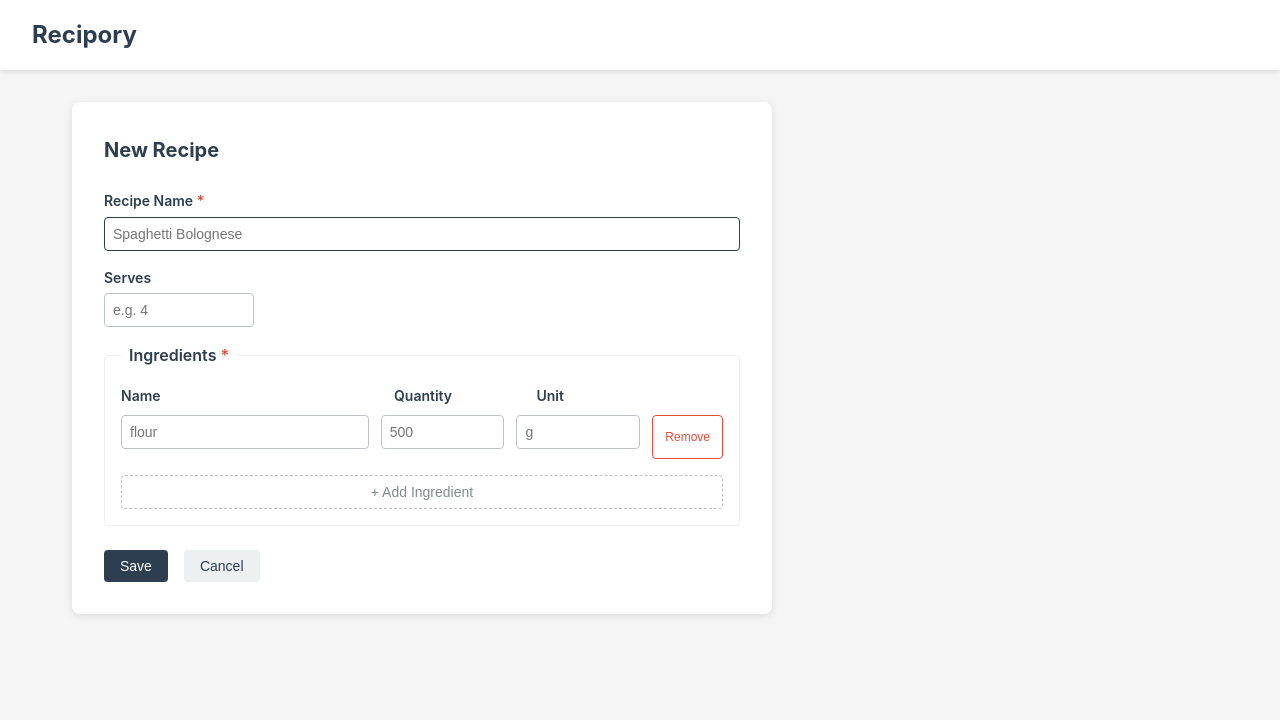
it: App › Add Recipe › adds and removes ingredient rows
Expected: the number of fields named "Name" is 1, [121,415,369,449]
Click the button "+ Add Ingredient" at (422, 492), box [121,475,723,509]
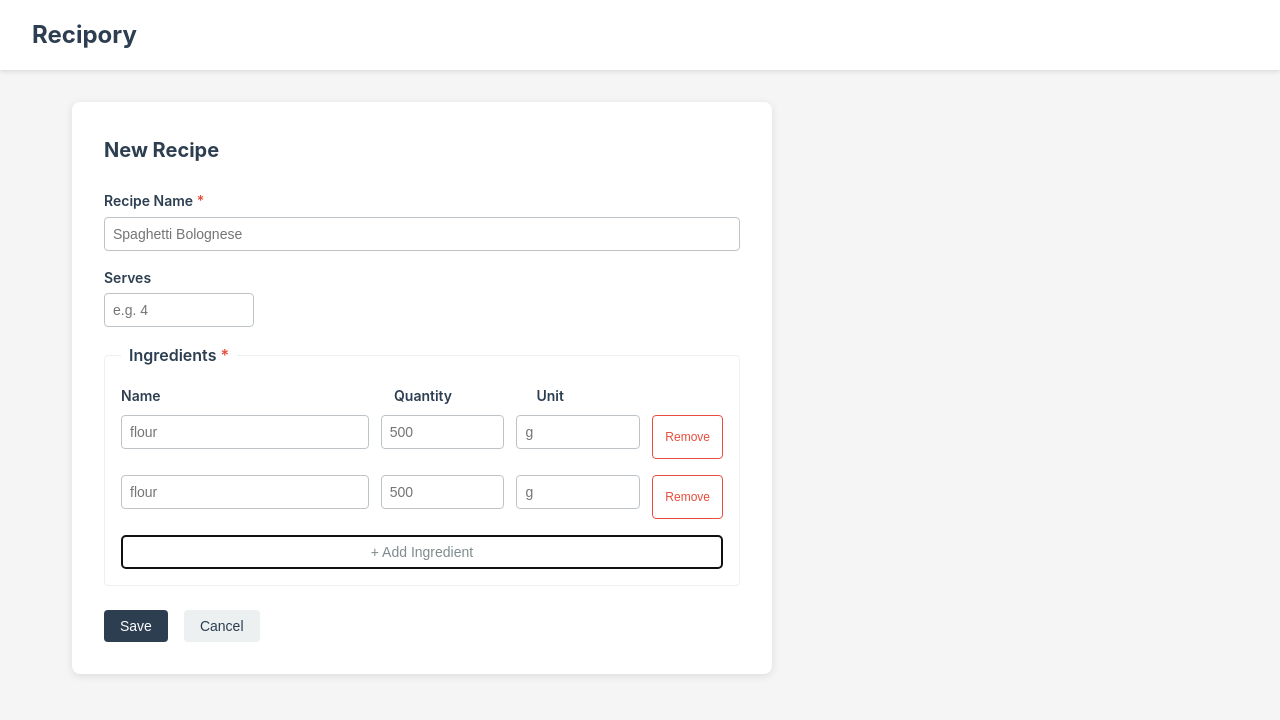
Expected: the number of fields named "Name" is 2, [121,415,369,449]; [121,475,369,509]
Click the 1st button "Remove" at (688, 437), box [652,415,723,459]
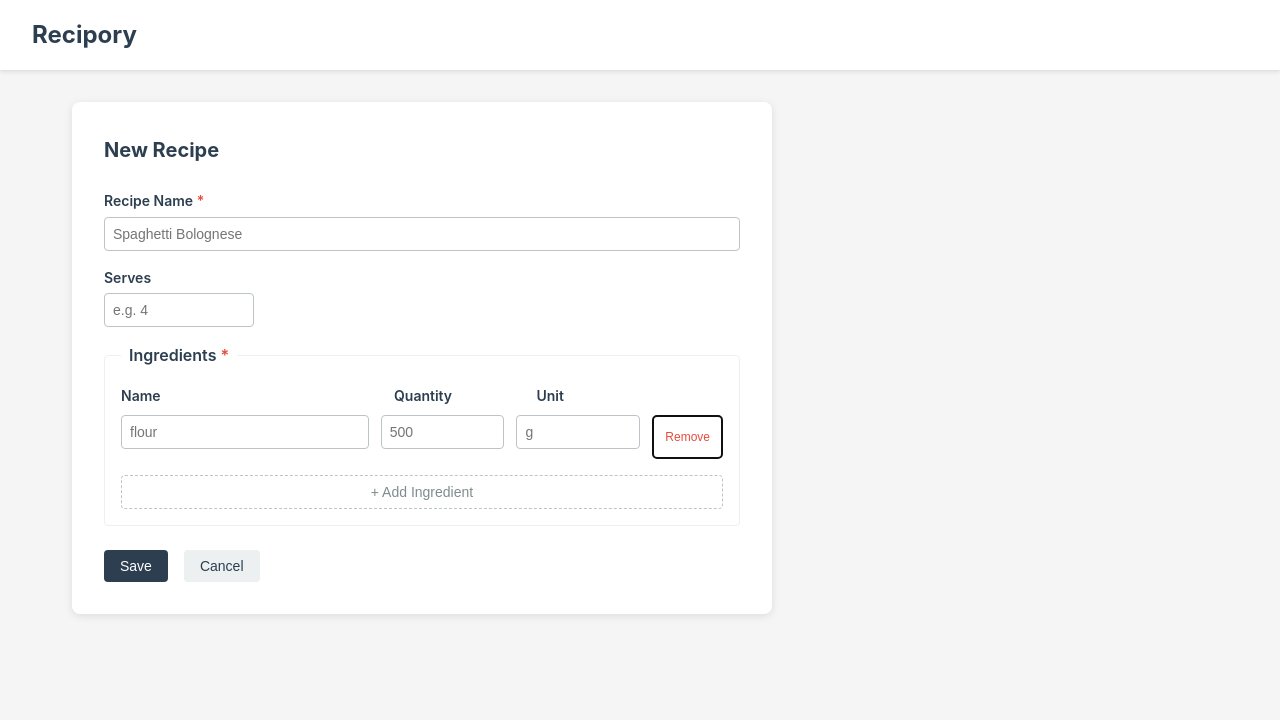
Expected: the number of fields named "Name" is 1, [121,415,369,449]
